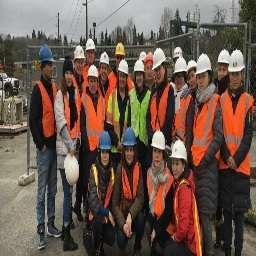helmet: (226, 44, 246, 83), (65, 150, 81, 190), (36, 43, 58, 72), (194, 51, 213, 84), (170, 138, 187, 168), (173, 56, 190, 84), (121, 126, 138, 152), (149, 49, 167, 73), (152, 130, 168, 156), (99, 129, 113, 153), (115, 58, 130, 80), (84, 35, 96, 59), (87, 66, 100, 88), (115, 38, 127, 60), (73, 44, 86, 64), (134, 58, 146, 79), (99, 49, 111, 70)
no-helmet: (62, 54, 77, 83)
person: (190, 53, 222, 256), (29, 44, 60, 248), (220, 49, 251, 251), (57, 51, 81, 246), (169, 138, 204, 256), (86, 129, 116, 256), (118, 126, 144, 256), (146, 45, 176, 146), (148, 131, 172, 244), (172, 56, 193, 169), (130, 58, 154, 147), (83, 66, 106, 151), (108, 59, 132, 140), (98, 47, 112, 104)
vest: (222, 88, 253, 183), (193, 91, 221, 174), (81, 90, 106, 150), (110, 83, 131, 140), (132, 89, 151, 149), (152, 84, 172, 133), (175, 88, 191, 144)
